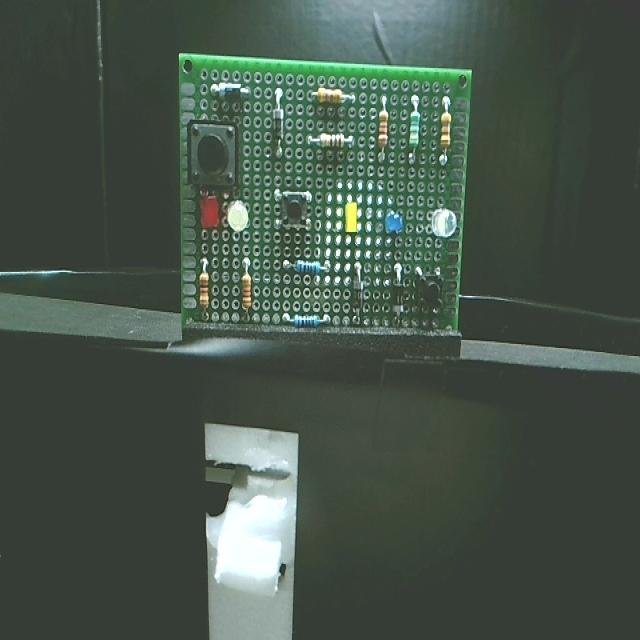diode: (266, 90, 290, 161), (384, 266, 405, 324), (212, 80, 250, 110), (351, 265, 368, 319)
led: (194, 193, 225, 241), (427, 204, 458, 246), (340, 195, 364, 241), (379, 200, 402, 246), (226, 199, 253, 237)
resistor: (305, 76, 358, 112), (433, 96, 458, 167), (368, 101, 398, 159), (283, 306, 338, 335), (404, 94, 424, 170), (278, 248, 326, 279), (308, 125, 351, 154), (236, 254, 255, 317), (194, 260, 214, 319)
switch: (184, 116, 241, 190), (274, 184, 312, 228), (414, 269, 446, 314)
